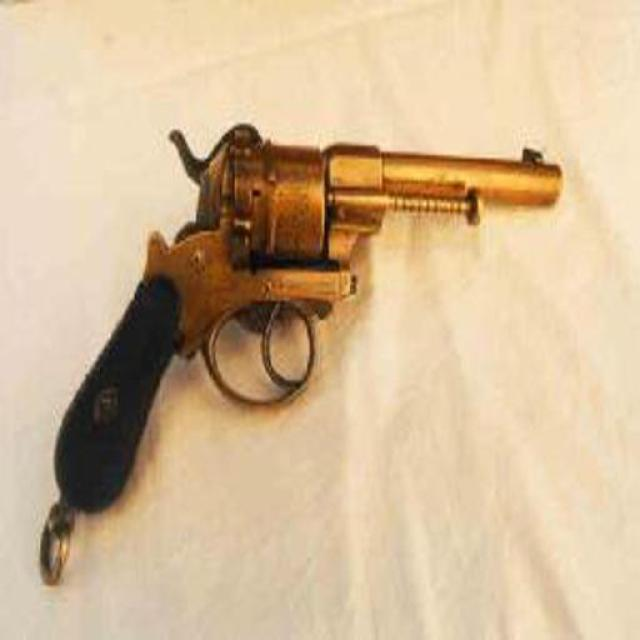pistol: (52, 116, 560, 512)
